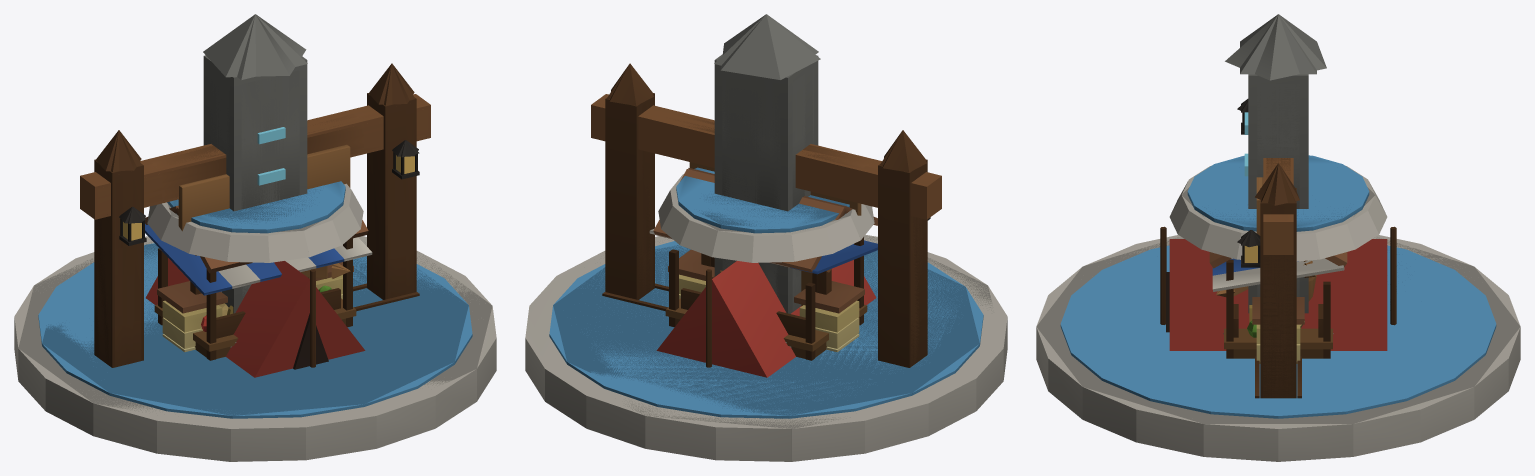
The model's file is furniture.glb.
3 renders of one model, left to right at view 1: azimuth 30°, elevation 25°; view 2: azimuth 150°, elevation 25°; view 3: azimuth 270°, elevation 25°, orthographic.
Visible parts, largest first — view 1: fountain, fountain__lod, gate_arch, gate_arch__lod, monolith__lod, monolith, tent, stall_blue, tent__lod, stall_blue__lod, beehives, beehives__lod (+4 smaller); view 2: fountain, fountain__lod, gate_arch__lod, monolith__lod, tent, monolith, gate_arch, beehives__lod, stall_blue, stall_blue__lod, well__lod, beehives (+2 smaller); view 3: fountain, tent__lod, fountain__lod, monolith__lod, gate_arch__lod, gate_arch, monolith, stall_blue, stall_blue__lod, tent, beehives__lod, cart.
Part boxes in pixels (x1,y1,x2,y2): fountain: (14,181,496,461); fountain__lod: (18,188,492,461); gate_arch: (81,64,428,367); gate_arch__lod: (80,63,430,367); monolith__lod: (203,14,307,313); monolith: (208,14,307,299); tent: (145,258,328,377); stall_blue: (145,224,372,360); tent__lod: (255,269,365,377); stall_blue__lod: (154,238,356,360); beehives: (164,262,342,351); beehives__lod: (157,266,353,352); fountain: (525,167,1007,461); fountain__lod: (553,194,992,461); gate_arch__lod: (591,63,941,367); monolith__lod: (714,14,820,313); tent: (656,260,876,377); monolith: (714,15,818,311); gate_arch: (595,65,940,366); beehives__lod: (668,249,864,352); stall_blue: (649,229,877,359); stall_blue__lod: (665,237,867,360); well__lod: (653,168,877,294); beehives: (679,250,853,348); fountain: (1036,155,1520,461); tent__lod: (1161,226,1395,350); fountain__lod: (1036,187,1520,423); monolith__lod: (1225,14,1326,313); gate_arch__lod: (1237,99,1299,398); gate_arch: (1241,99,1295,398); monolith: (1240,14,1316,296); stall_blue: (1212,258,1344,358); stall_blue__lod: (1224,259,1332,358); tent: (1160,227,1396,324); beehives__lod: (1252,297,1304,363); cart: (1235,304,1321,398).
Size of the model in its own units: 8 by 7.15 by 8.
